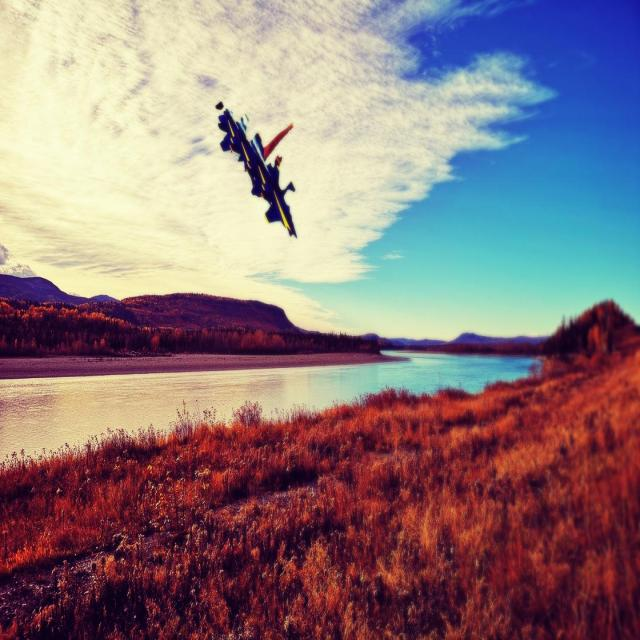airplane: (214, 100, 297, 238)
